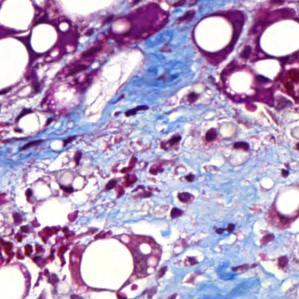steatosis: (193, 16, 237, 55)
